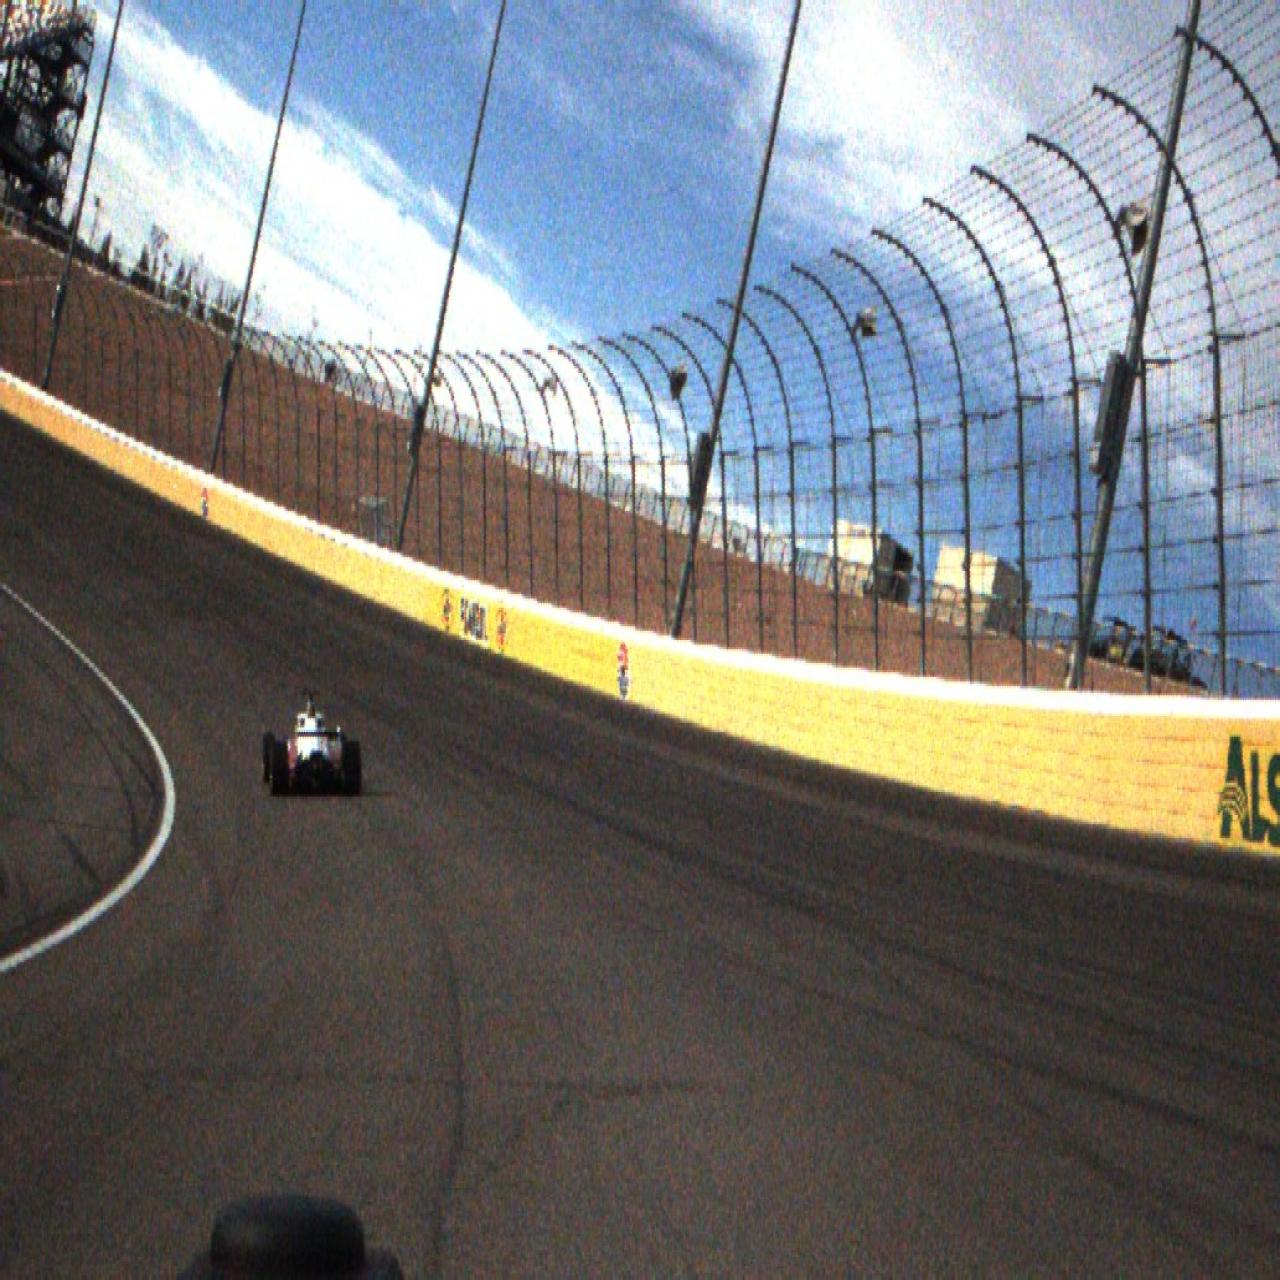AV: (261, 689, 362, 798)
Wheel: (270, 742, 290, 797), (343, 741, 362, 797), (263, 731, 275, 784)
